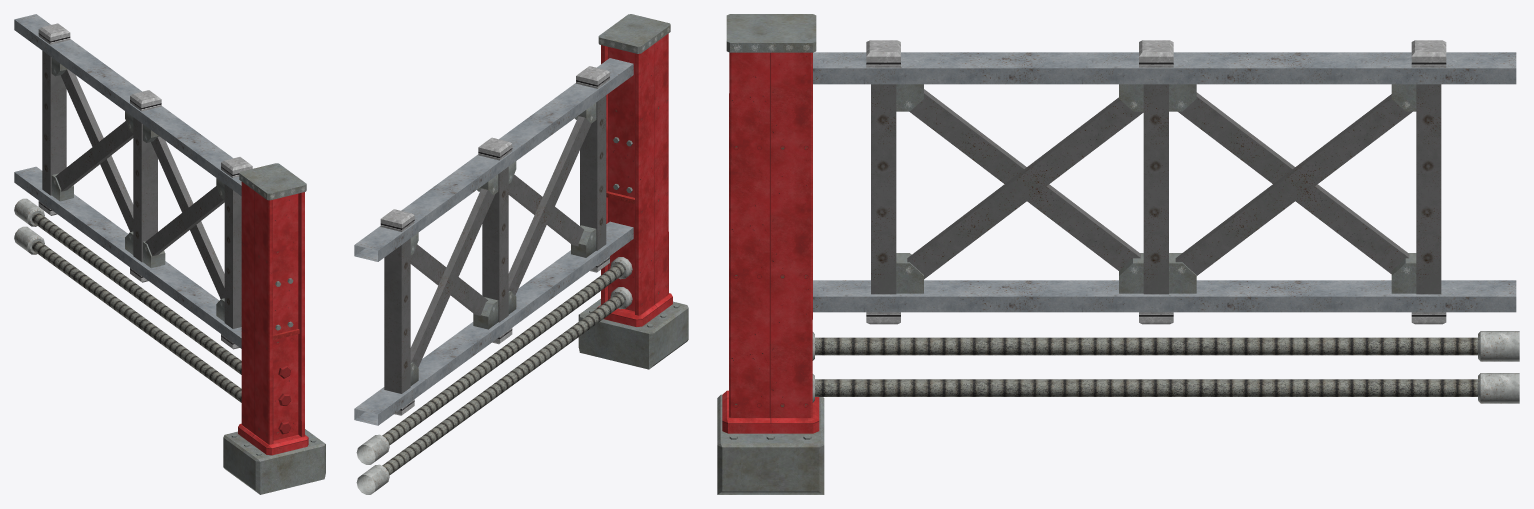
Rendered from Ob_FenceScaf_RC.fbx.
3 renders of one model, left to right at view 1: azimuth 30°, elevation 25°; view 2: azimuth 150°, elevation 25°; view 3: azimuth 270°, elevation 25°, orthographic. The views are drawn at different scales.
Parts seen in each view (by area): view 1: Ob_FenceScaf_RC; view 2: Ob_FenceScaf_RC; view 3: Ob_FenceScaf_RC.
Boxes of the visible parts, x1,y1,x2,y2 form: Ob_FenceScaf_RC: (14, 14, 325, 494); Ob_FenceScaf_RC: (354, 14, 688, 494); Ob_FenceScaf_RC: (717, 14, 1519, 494).
Size of the model in its own units: 246 by 989 by 1627.
